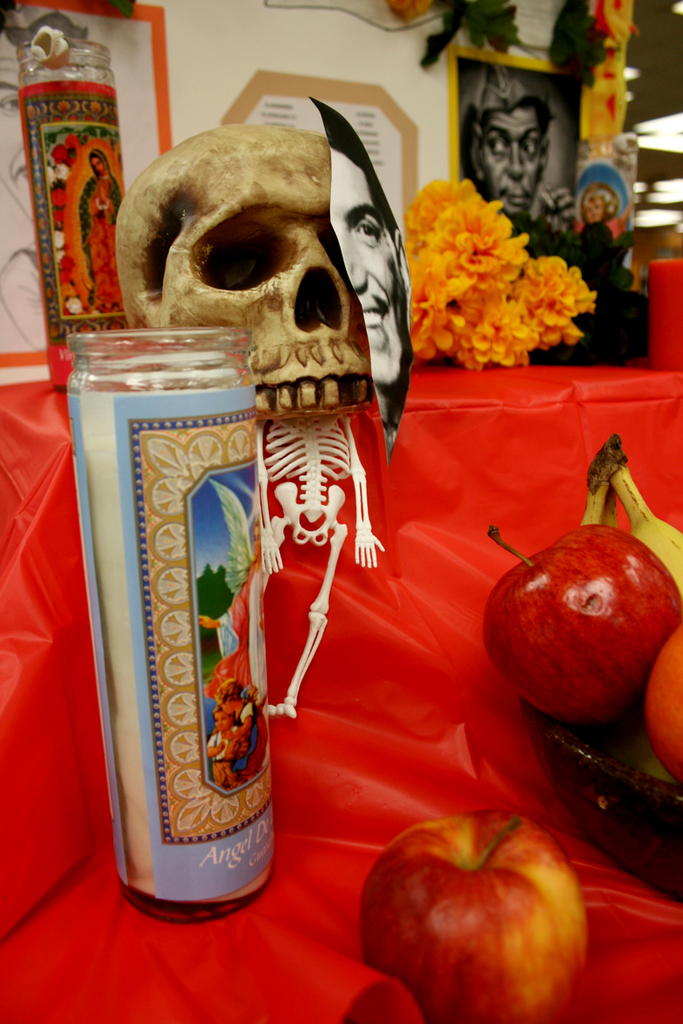Apple: (352, 819, 598, 1022), (478, 522, 682, 729)
